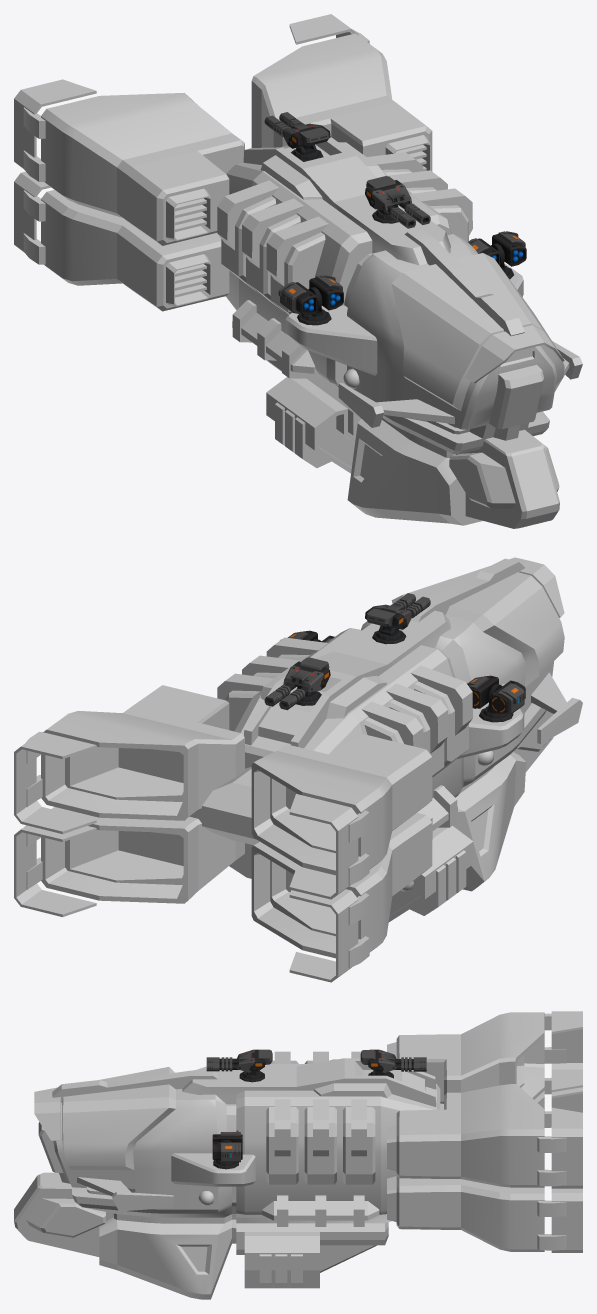
File: Heavy_cruiser_blue.FBX
The picture shows the model from 3 angles, top to bottom: view 1: azimuth 30°, elevation 25°; view 2: azimuth 150°, elevation 25°; view 3: azimuth 270°, elevation 25°; orthographic projection. The views are drawn at different scales.
Parts seen in each view (by area): view 1: Heavy_cruiser, Arcade1_LaserX007, Arcade1_MissilesLaunch016, Arcade1_LaserX008, Arcade1_MissilesLaunch015; view 2: Heavy_cruiser, Arcade1_LaserX008, Arcade1_MissilesLaunch016, Arcade1_LaserX007; view 3: Heavy_cruiser, Arcade1_LaserX007, Arcade1_LaserX008, Arcade1_MissilesLaunch015.
Boxes of the visible parts, left/top/right/bottom form: Heavy_cruiser: left=14, top=14, right=582, bottom=528; Arcade1_LaserX007: left=365, top=176, right=430, bottom=228; Arcade1_MissilesLaunch016: left=278, top=275, right=343, bottom=315; Arcade1_LaserX008: left=264, top=112, right=330, bottom=148; Arcade1_MissilesLaunch015: left=468, top=231, right=526, bottom=266; Heavy_cruiser: left=14, top=557, right=582, bottom=982; Arcade1_LaserX008: left=264, top=657, right=330, bottom=710; Arcade1_MissilesLaunch016: left=467, top=675, right=525, bottom=715; Arcade1_LaserX007: left=365, top=593, right=430, bottom=629; Heavy_cruiser: left=14, top=1011, right=582, bottom=1299; Arcade1_LaserX007: left=206, top=1049, right=272, bottom=1072; Arcade1_LaserX008: left=360, top=1049, right=426, bottom=1072; Arcade1_MissilesLaunch015: left=212, top=1130, right=242, bottom=1162.
Size of the model in its own units: 9390 by 17980 by 7898.
